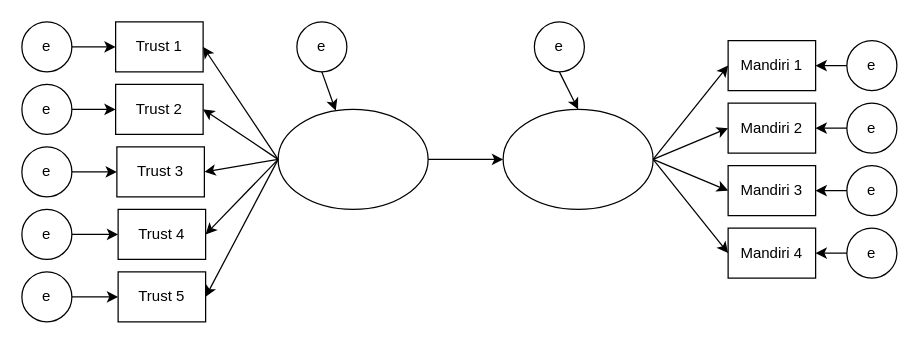
Image size: 919x344. Some labels were removed from this diagram. The centre of each missing label's shape, as x and y in pixels:
"Kemandirian" belongs at (x=577, y=158).
"Trust in organismic development" belongs at (x=352, y=158).
